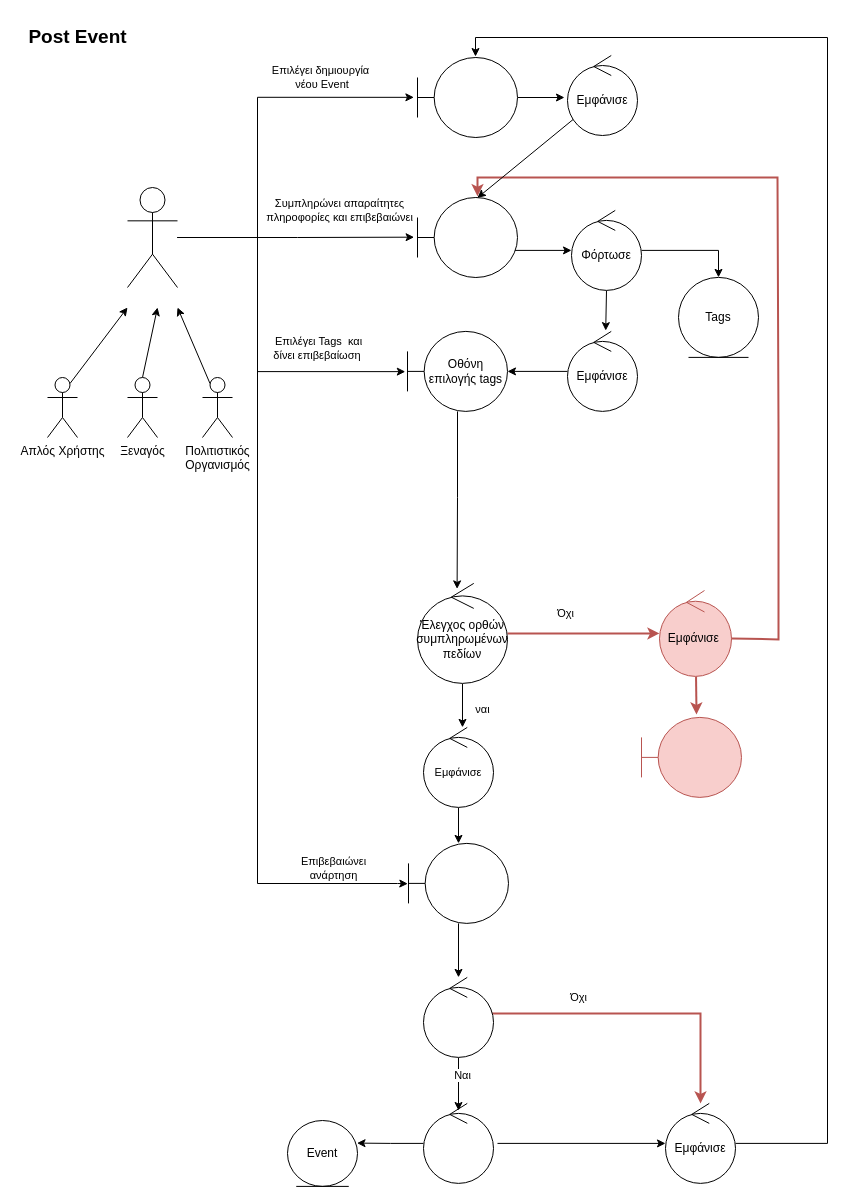
This 853x1204 diagram has some shape labels left out. Here are the shapes that lost their labels. From the top down, the centre of each, then its label:
At (467,97): "Οθόνη Ιστορικού Events".
At (152,237): "Χειριστής".
At (467,237): "Οθόνη Δημιουργίας Event".
At (691,756): "Μήνυμα λάθους".
At (458,882): "Οθόνη επιβεβαίωσης ανάρτησης εκδήλωσης".
At (458,1016): "Επιβεβαιωσε ο χειριστής;".
At (458,1142): "καταχώρεί".
